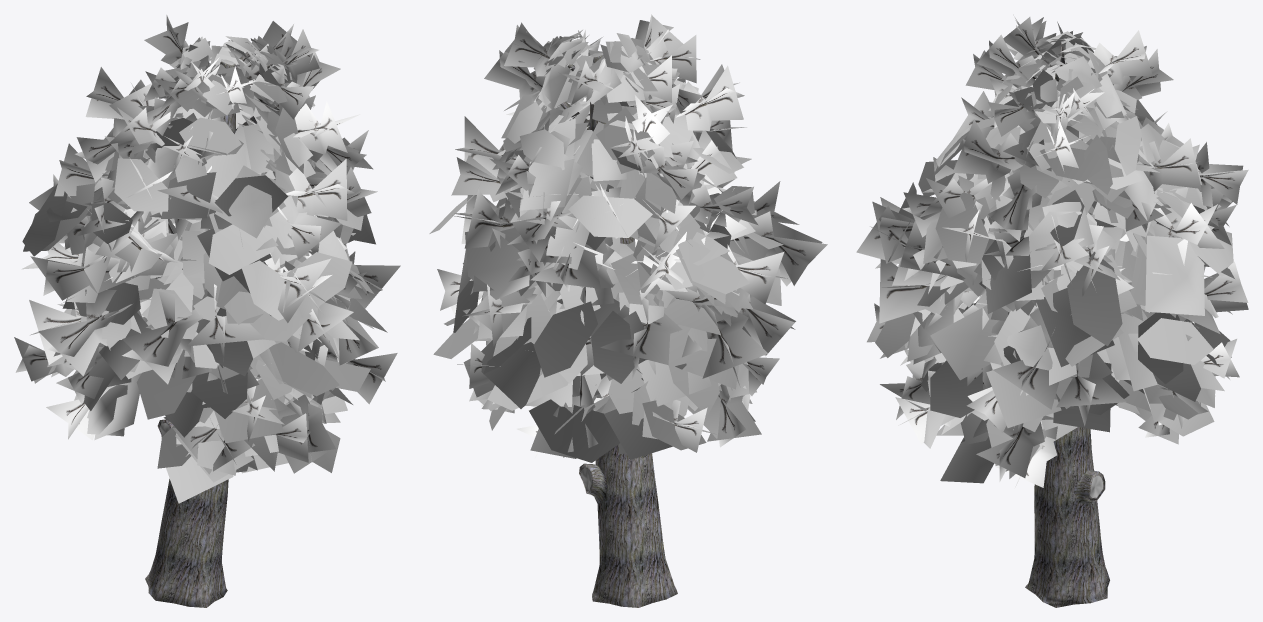
Rendered from Type_3_4.fbx.
The picture shows the model from 3 angles, left to right: view 1: azimuth 30°, elevation 25°; view 2: azimuth 150°, elevation 25°; view 3: azimuth 270°, elevation 25°; orthographic projection. The views are drawn at different scales.
Visible parts, largest first — view 1: Type_3_4; view 2: Type_3_4; view 3: Type_3_4.
Part boxes in pixels (<box>): Type_3_4: <box>14,15,400,607</box>; Type_3_4: <box>429,14,827,607</box>; Type_3_4: <box>856,17,1248,607</box>.
Size of the model in its own units: 19.47 by 18.63 by 29.82.
